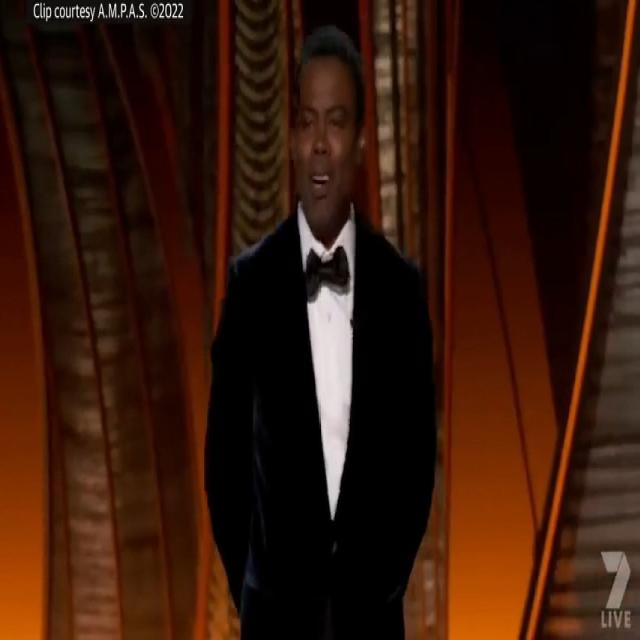non-fight: (195, 10, 438, 640)
